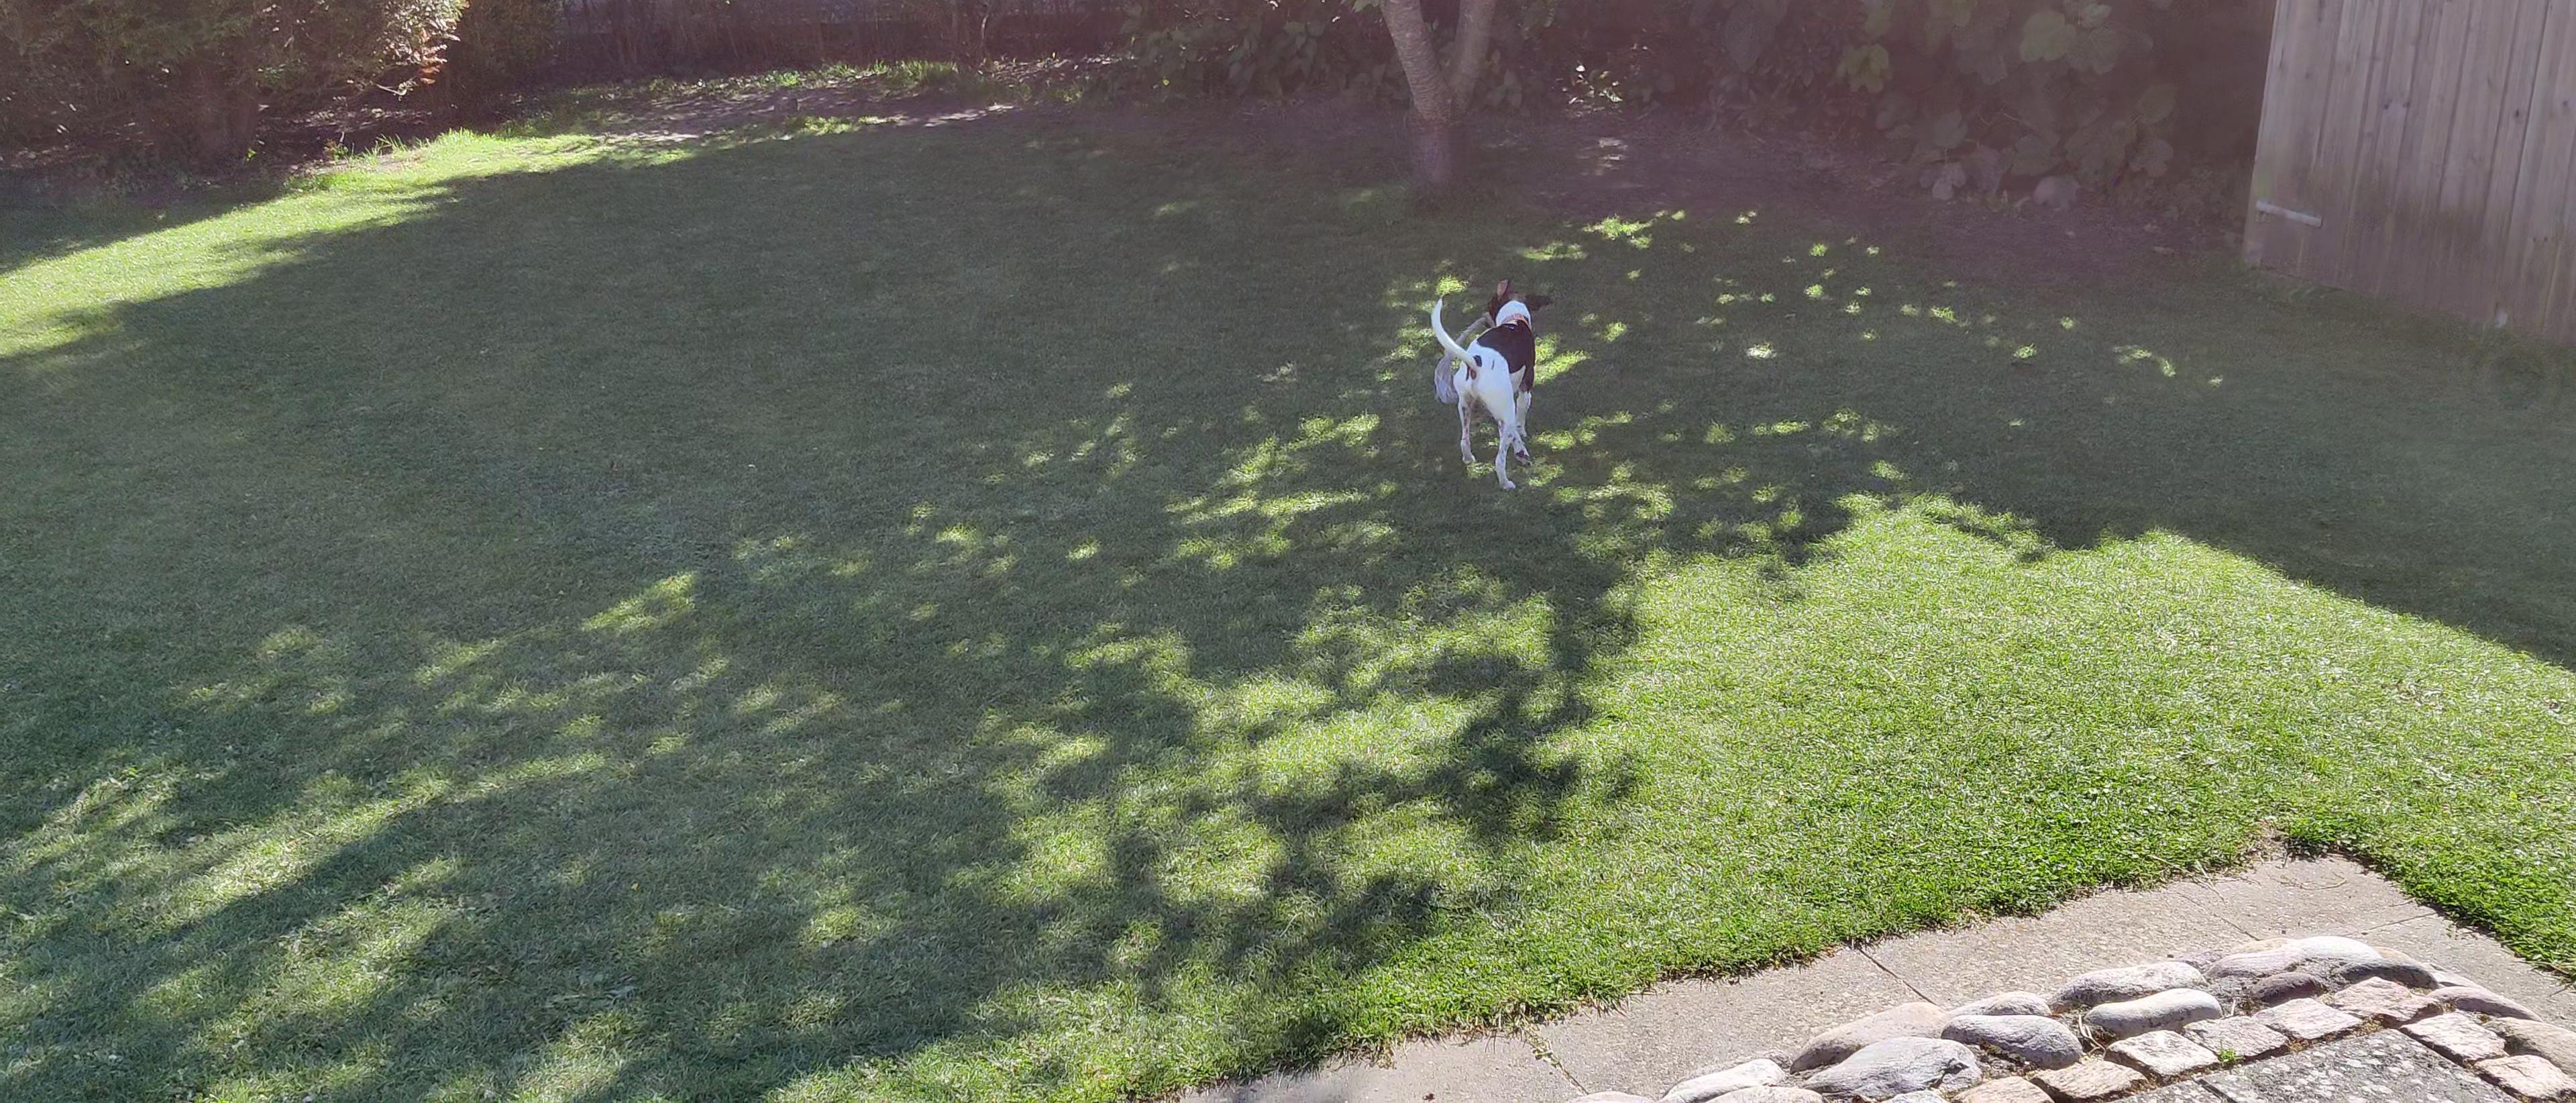Dog: (1414, 268, 1571, 496)
